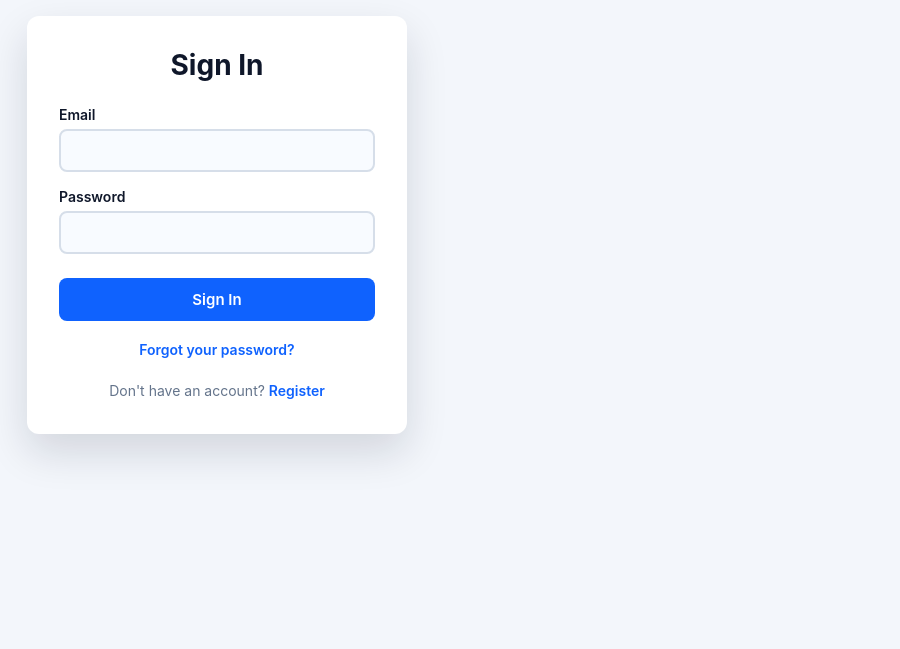
Test case: LoginPage › shows the server error message when login rejects
The width and height of the screenshot is (900, 649).
In the field labelled "Email": [217, 151] box [59,129,375,172], type "ada@example.com"
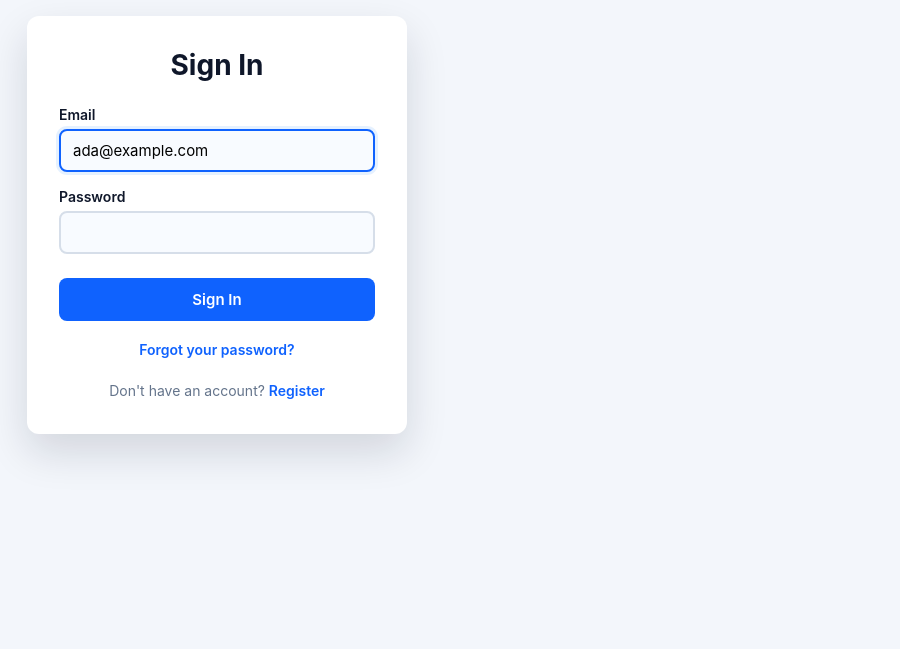
In the password field labelled "Password": [217, 233] box [59,211,375,254], type "wrongpassword"
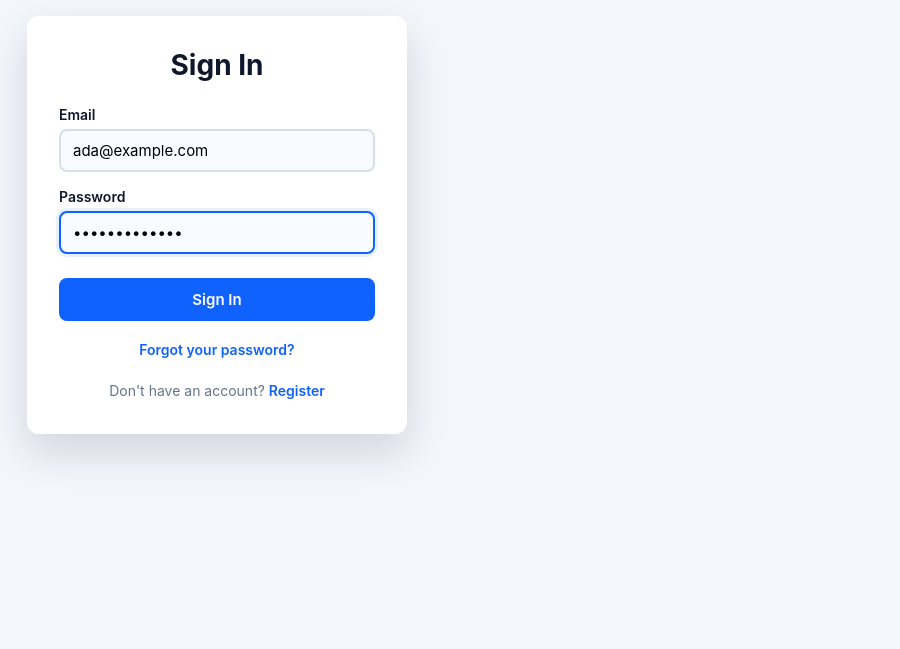
Click the button "Sign In": [217, 300] box [59,278,375,321]
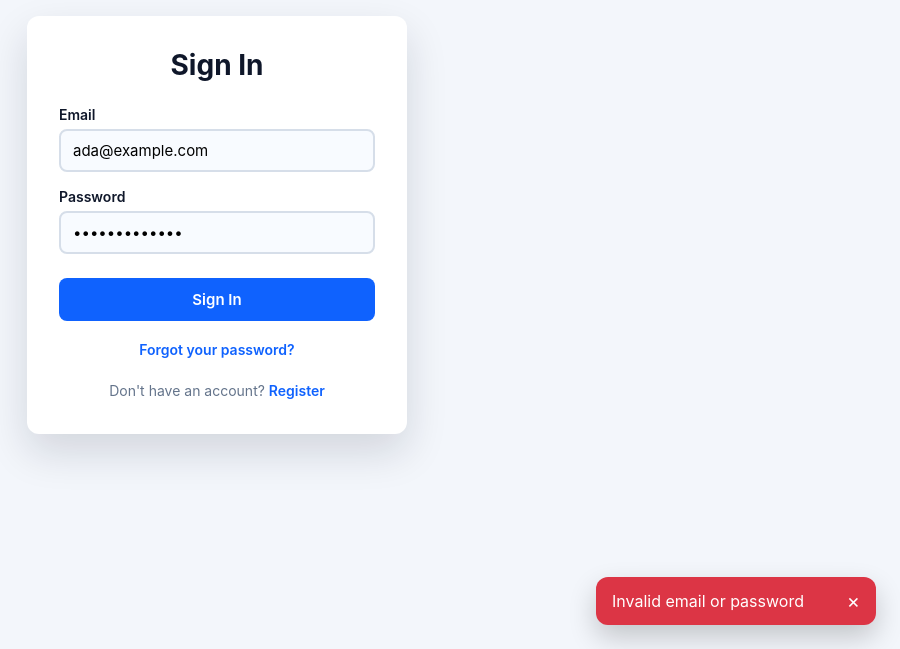
Result: the text "Invalid email or password" is shown at [612,591,804,611]
